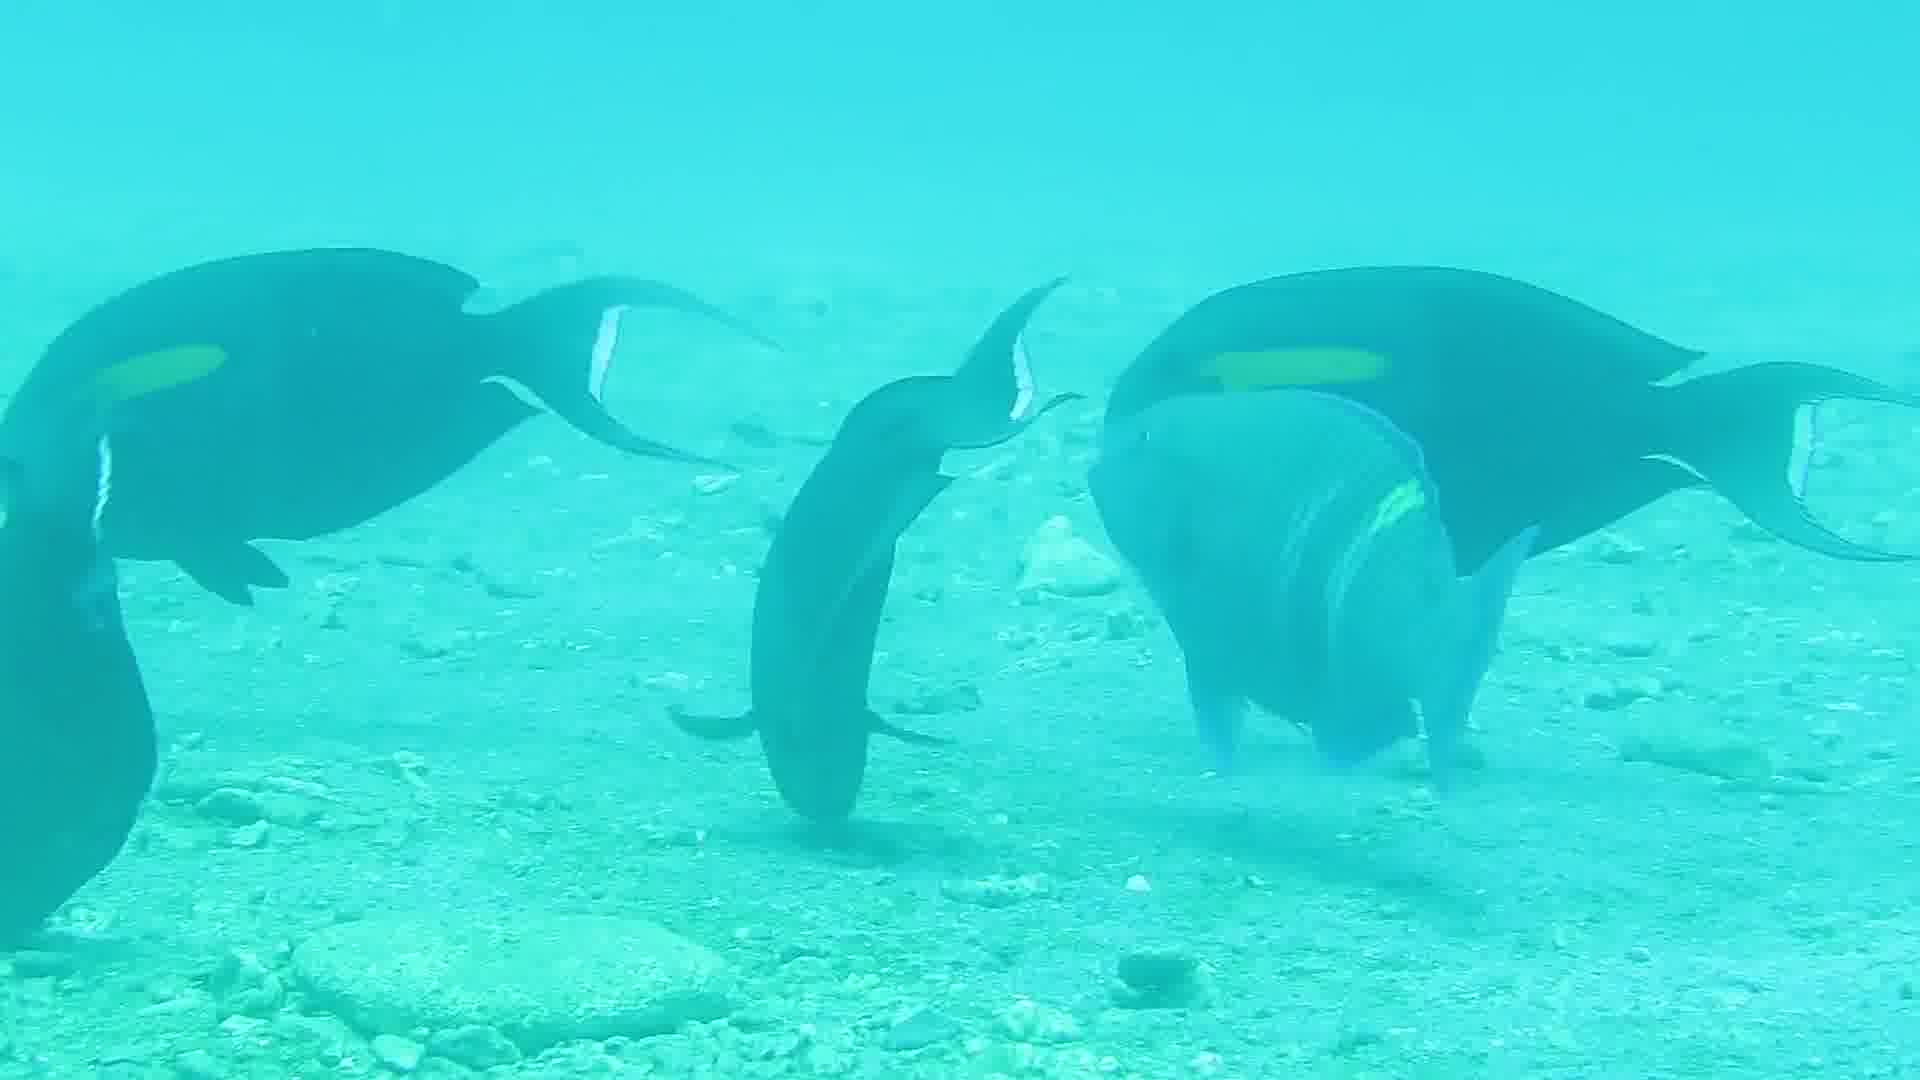Acanthurus olivaceus: (1, 193, 742, 576), (1092, 255, 1920, 592), (691, 245, 1062, 856), (1069, 393, 1542, 794)
